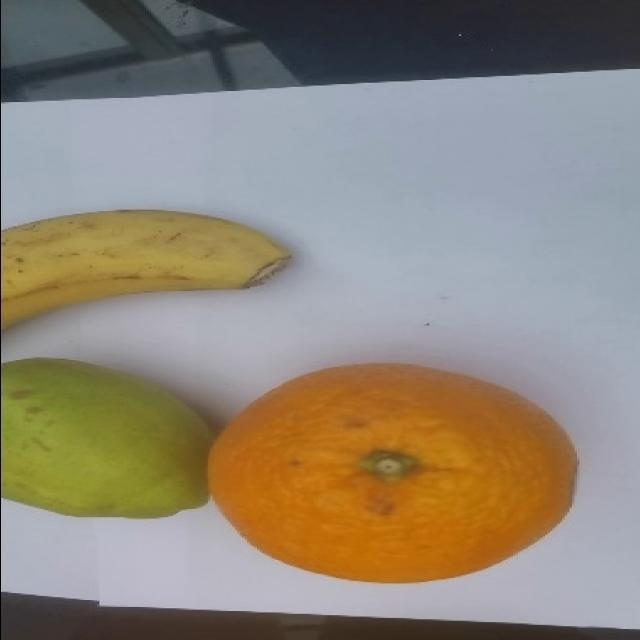Banana: (0, 204, 296, 330)
Orange: (208, 358, 580, 586)
